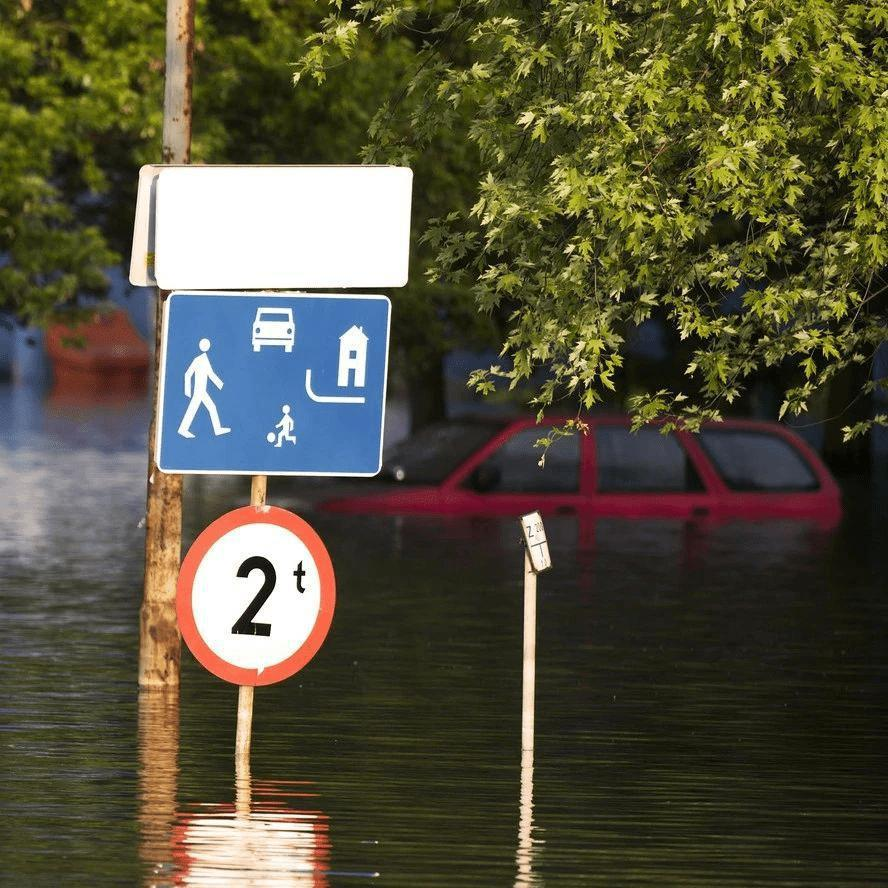water: (170, 436, 885, 887), (0, 388, 179, 887)
